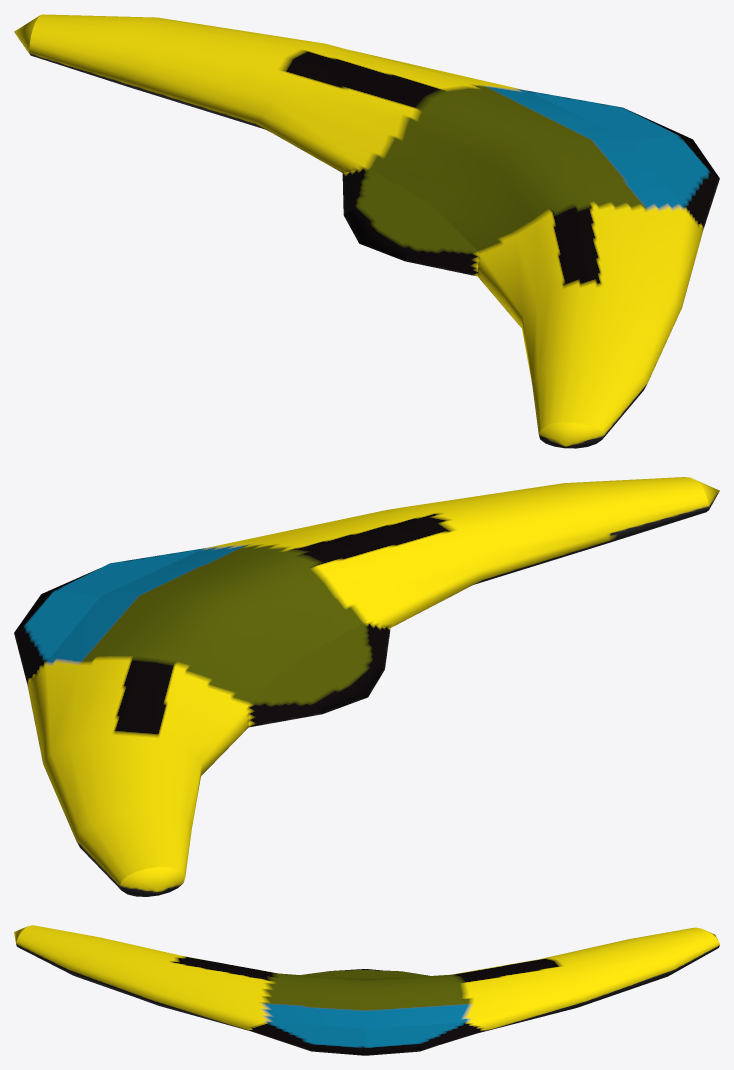
The model's file is mini ship 1 texture 4.FBX.
3 renders of one model, top to bottom at view 1: azimuth 30°, elevation 25°; view 2: azimuth 150°, elevation 25°; view 3: azimuth 270°, elevation 25°, orthographic. The views are drawn at different scales.
Visible parts, largest first — view 1: Cylinder001; view 2: Cylinder001; view 3: Cylinder001.
Part boxes in pixels (x1,y1,x2,y2): Cylinder001: (14, 14, 719, 448); Cylinder001: (14, 477, 719, 896); Cylinder001: (14, 925, 719, 1055).
Size of the model in its own units: 34.06 by 5.41 by 80.08.
1 material, 1 textured.
